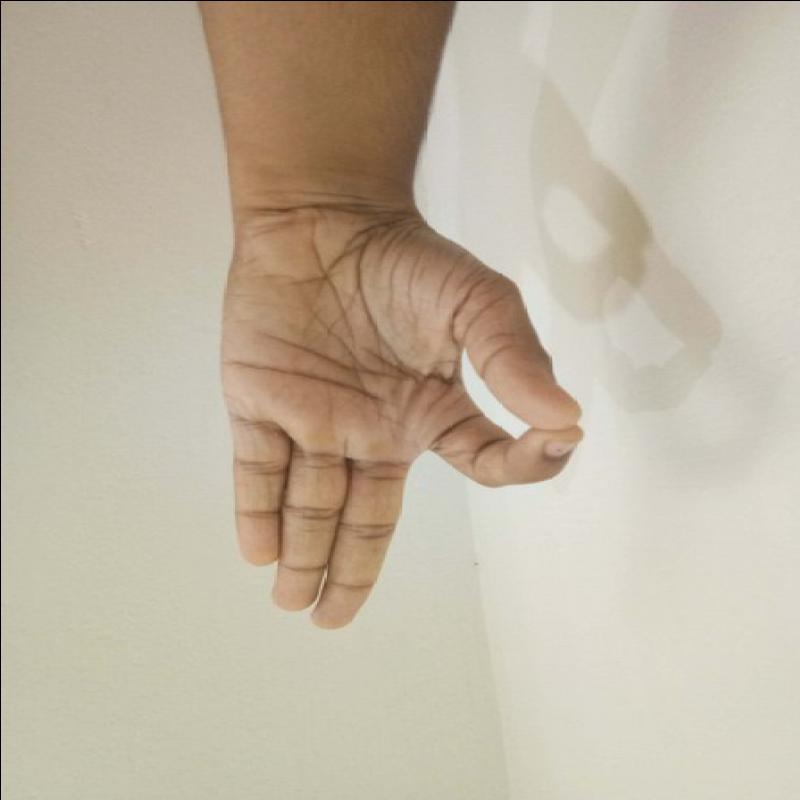Mudraakhyam: (187, 189, 590, 650)
